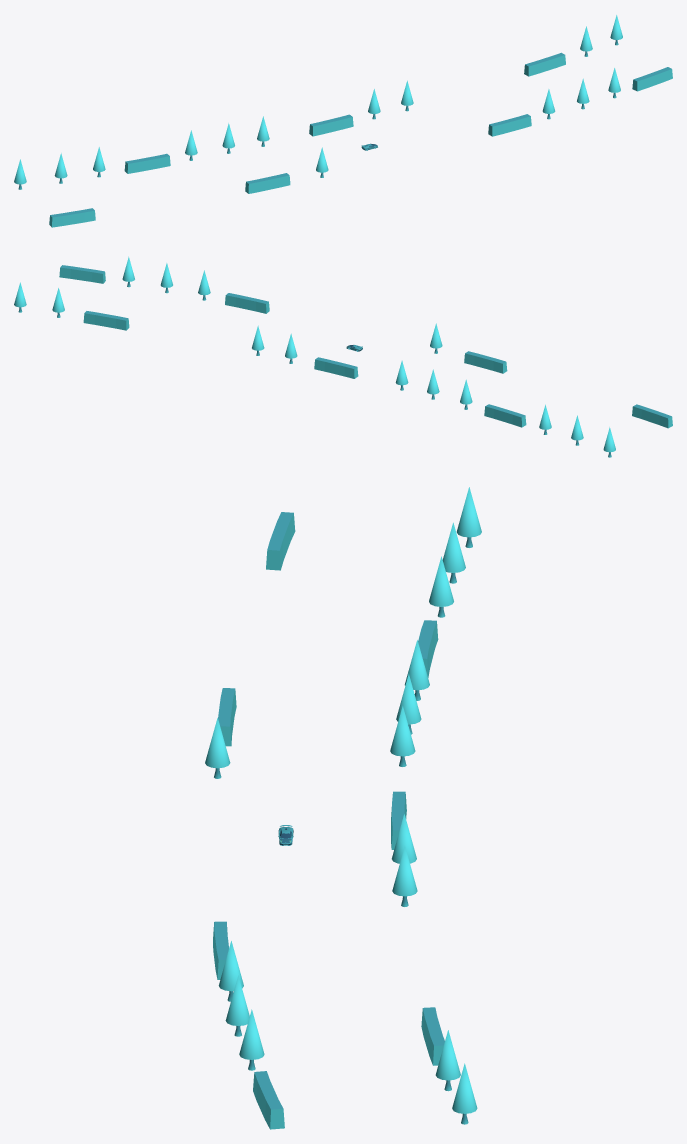
File: Race_LV4.FBX
3 views of the same model, one above another, from view 1: azimuth 30°, elevation 25°; view 2: azimuth 150°, elevation 25°; view 3: azimuth 270°, elevation 25° (orthographic). The views are drawn at different scales.
Parts seen in each view (by area): view 1: Race; view 2: Race; view 3: Race.
Boxes of the visible parts, box(x1,y1,x2,y2) form: Race: box(14, 15, 672, 227); Race: box(14, 256, 672, 457); Race: box(205, 487, 481, 1129).
Size of the model in its own units: 217 by 10.18 by 42.48.
